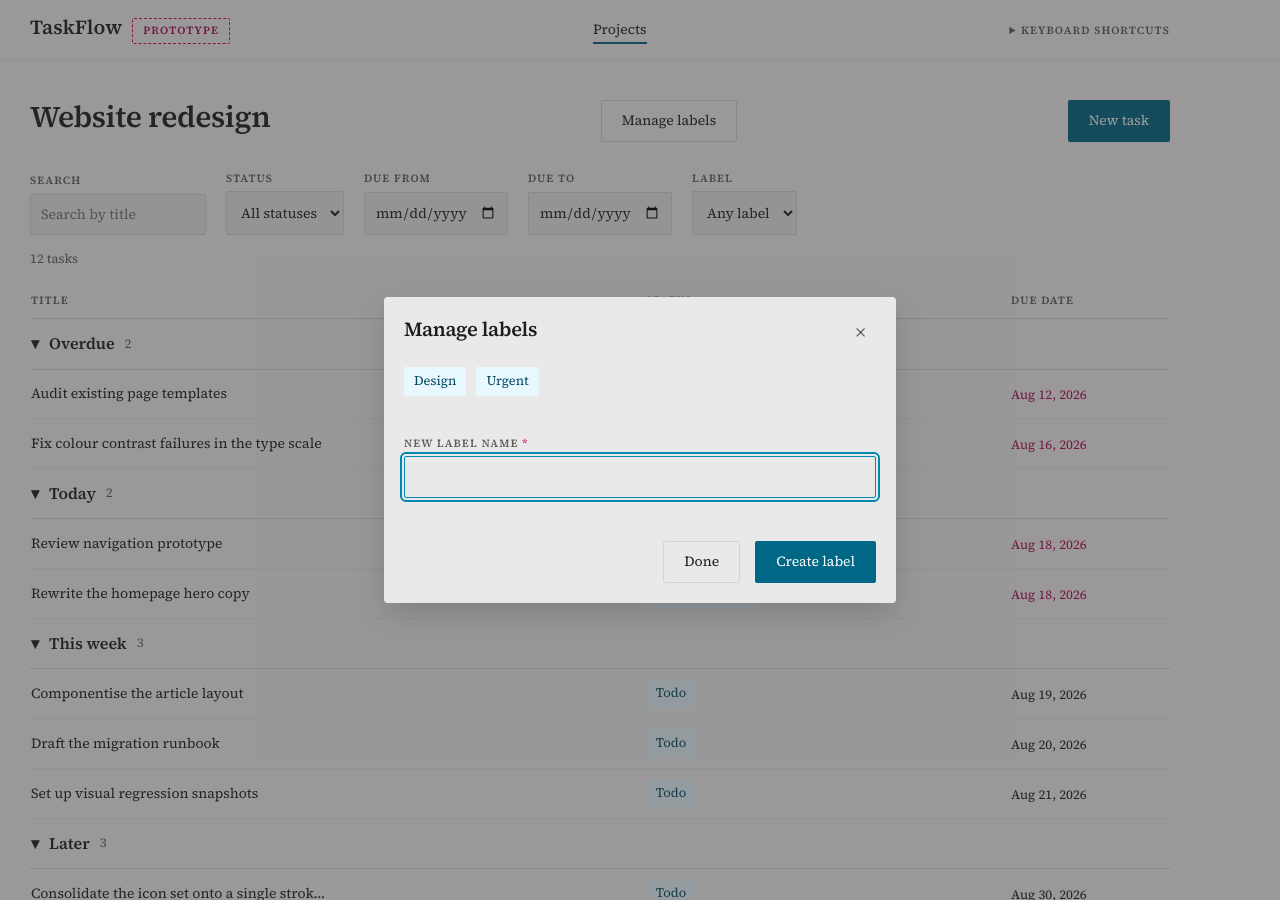
Test: ManageLabelsDialog › rejects a duplicate name, keeping the typed value
Expected: the text "Design" is shown, [404,367,466,396]
Type "Design" into the field labelled "New label name *".
click(640, 477); type("Design")  # box [404,456,876,498]
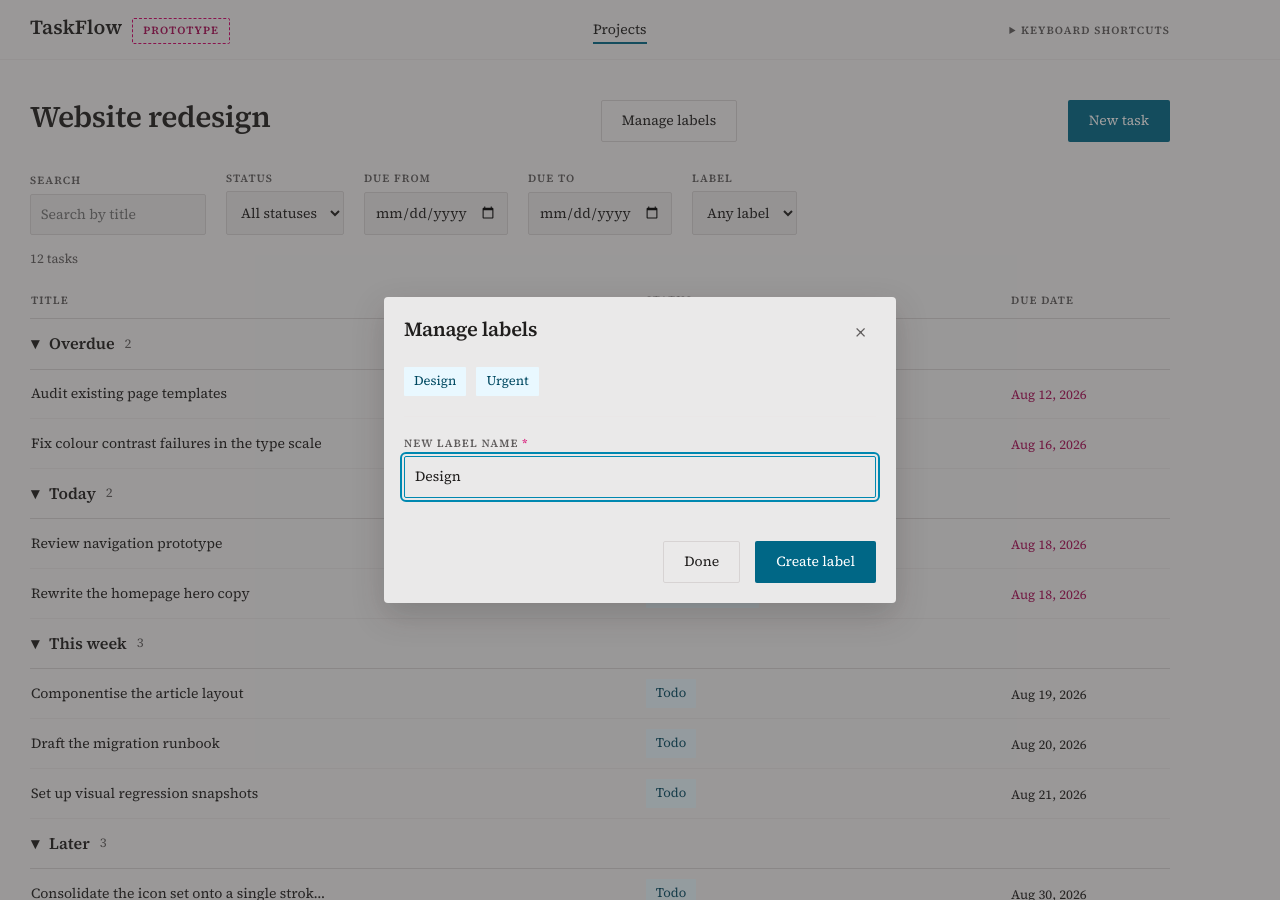
Click the button "Create label".
click(816, 562)  # box [755,541,876,583]
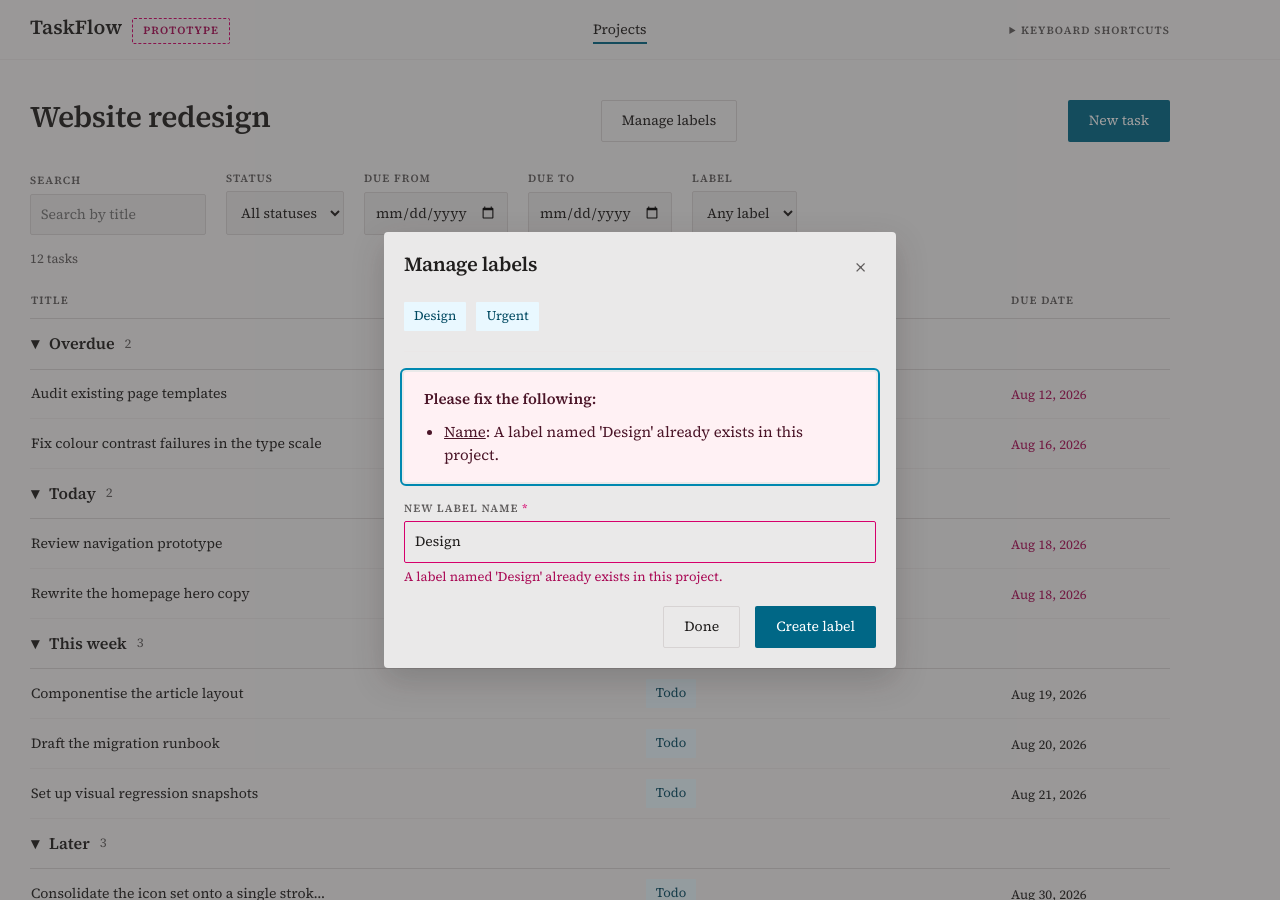
Result: the message shows "already exists" at [444,421,803,465]
